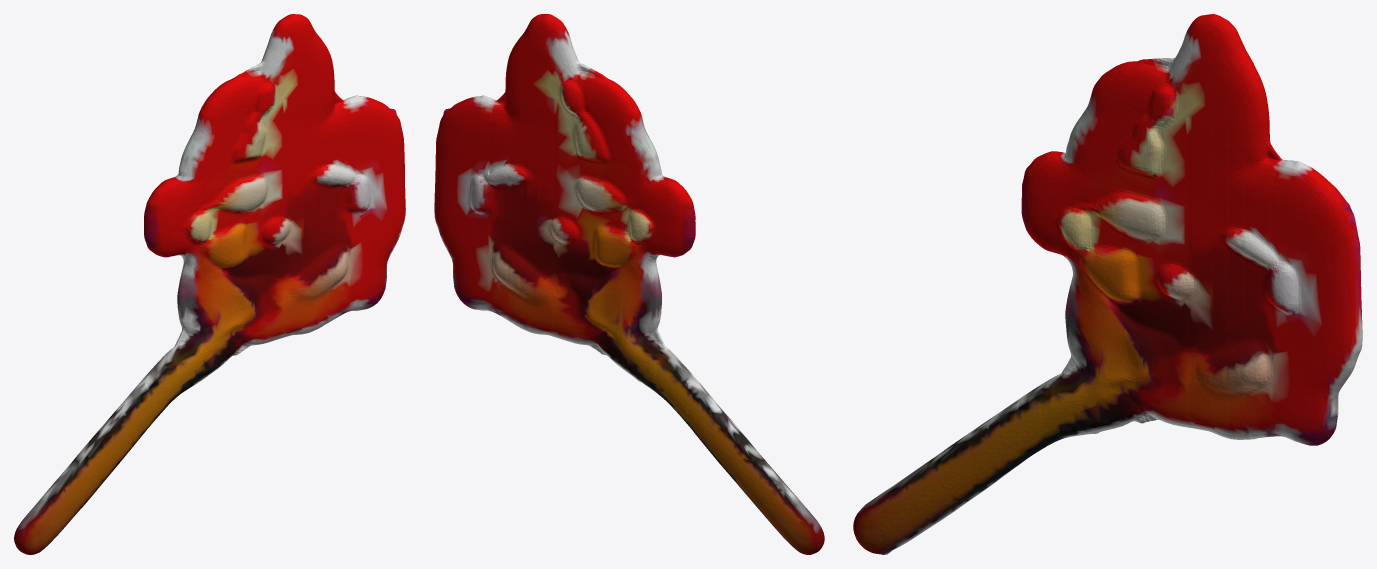
Rendered from torch_lit2.glb.
3 renders of one model, left to right at view 1: azimuth 30°, elevation 25°; view 2: azimuth 150°, elevation 25°; view 3: azimuth 330°, elevation 25°, orthographic. The views are drawn at different scales.
Parts seen in each view (by area): view 1: geometry_0; view 2: geometry_0; view 3: geometry_0.
Part boxes in pixels (box(x1,y1,x2,y2)): geometry_0: box(14, 14, 405, 554); geometry_0: box(434, 14, 824, 554); geometry_0: box(853, 14, 1362, 554).
Size of the model in its own units: 0.625 by 0.7315 by 0.0559.
